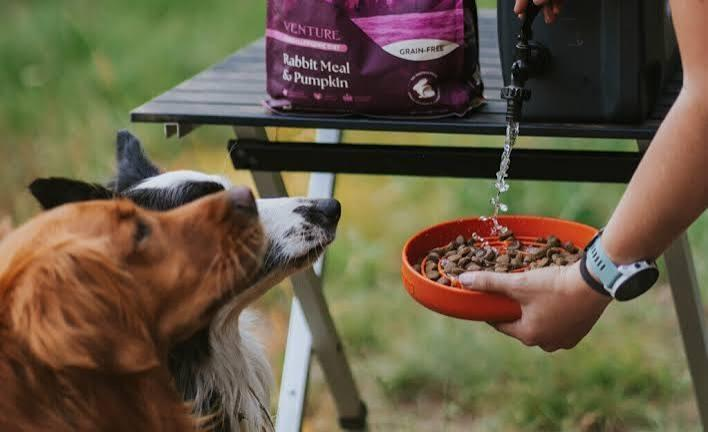adult_dog: (29, 128, 344, 432), (1, 185, 268, 432)
